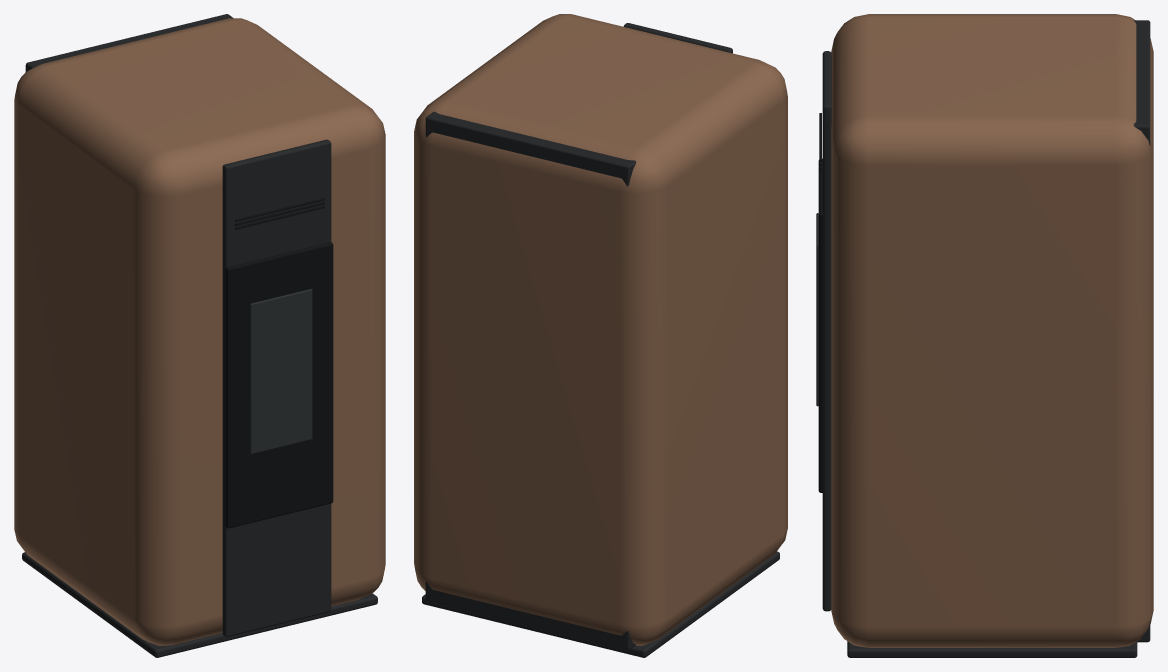
The model's file is ravelli-hrv-160-touch-steel-bronzo.glb.
The picture shows the model from 3 angles, left to right: view 1: azimuth 30°, elevation 25°; view 2: azimuth 150°, elevation 25°; view 3: azimuth 270°, elevation 25°; orthographic projection. The views are drawn at different scales.
Parts seen in each view (by area): view 1: Corpo.002, Pannello frontale, Porta.003, Vetro sportello.003, Zoccolo.003, Serbatoio posteriore.001; view 2: Corpo.002, Serbatoio posteriore.001, Zoccolo.003, Pannello frontale; view 3: Corpo.002, Pannello frontale, Zoccolo.003, Porta.003, Serbatoio posteriore.001, Vetro sportello.003.
Boxes of the visible parts, <box> form: Corpo.002: <box>14,18,385,645</box>; Pannello frontale: <box>222,139,331,636</box>; Porta.003: <box>225,242,333,528</box>; Vetro sportello.003: <box>250,289,312,453</box>; Zoccolo.003: <box>22,552,377,657</box>; Serbatoio posteriore.001: <box>25,14,233,71</box>; Corpo.002: <box>414,14,787,645</box>; Serbatoio posteriore.001: <box>425,111,636,649</box>; Zoccolo.003: <box>422,551,779,657</box>; Pannello frontale: <box>623,23,732,53</box>; Corpo.002: <box>831,14,1153,647</box>; Pannello frontale: <box>822,51,831,611</box>; Zoccolo.003: <box>847,641,1137,657</box>; Porta.003: <box>818,158,823,492</box>; Serbatoio posteriore.001: <box>1133,20,1150,642</box>; Vetro sportello.003: <box>816,213,818,406</box>.
Size of the model in its own units: 0.61 by 1.17 by 0.6695.
